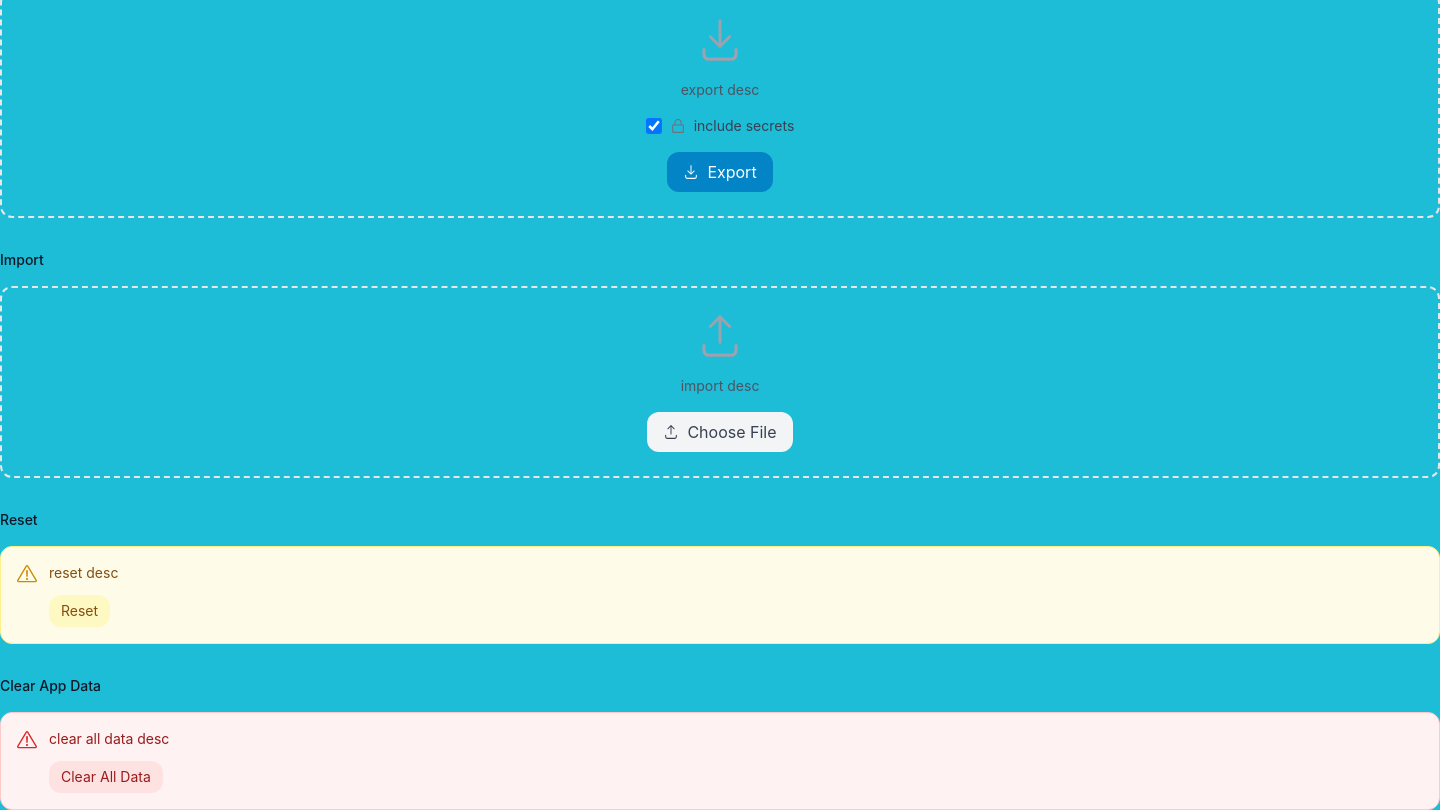
it: ImportExportSection clear-all-data › shows error and does not clear frontend state when clearAllData fails
(page scrolled)
Click the button "Clear All Data" at (106, 777), box [49, 761, 163, 793]
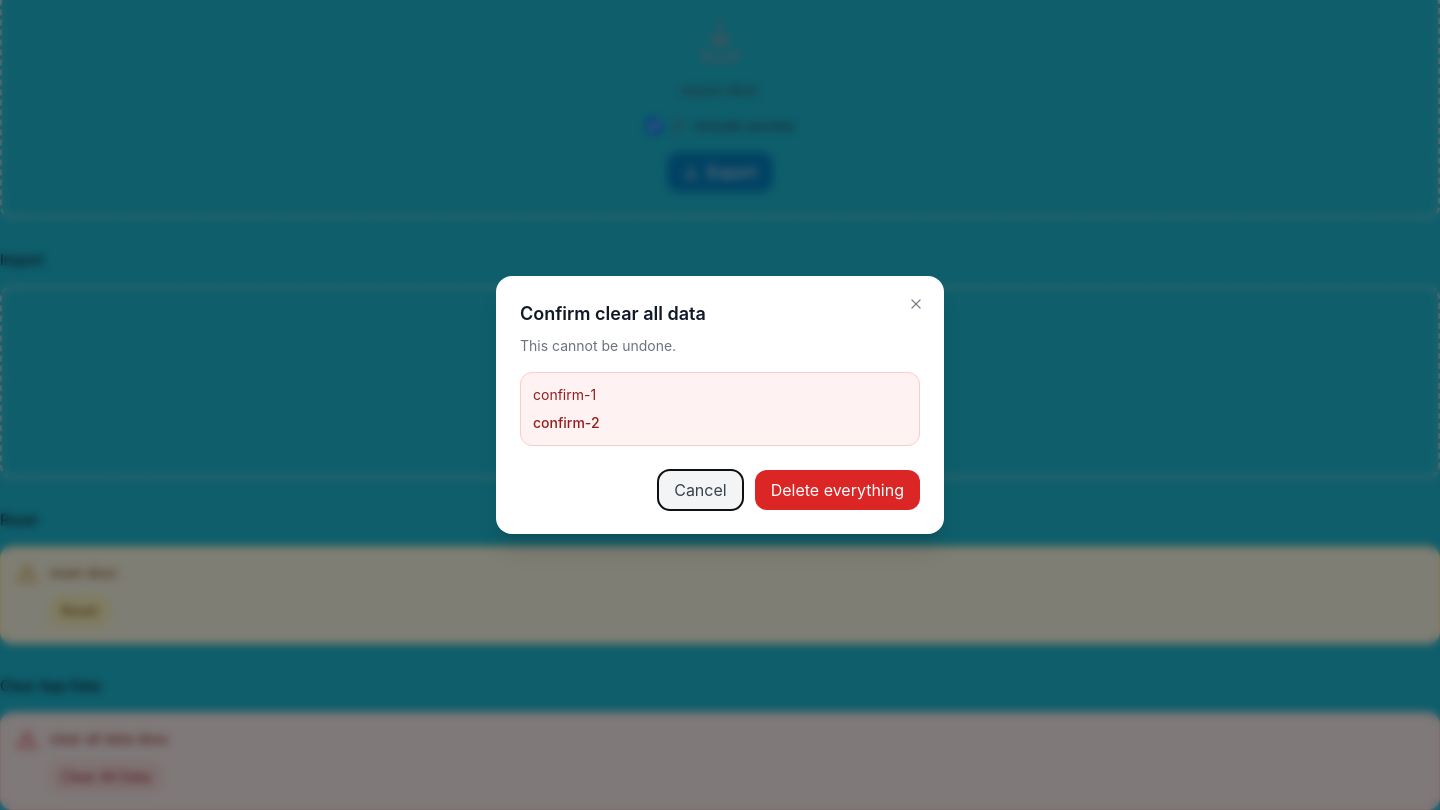
Click the button "Delete everything" at (837, 490), box [755, 470, 920, 510]
(page scrolled)
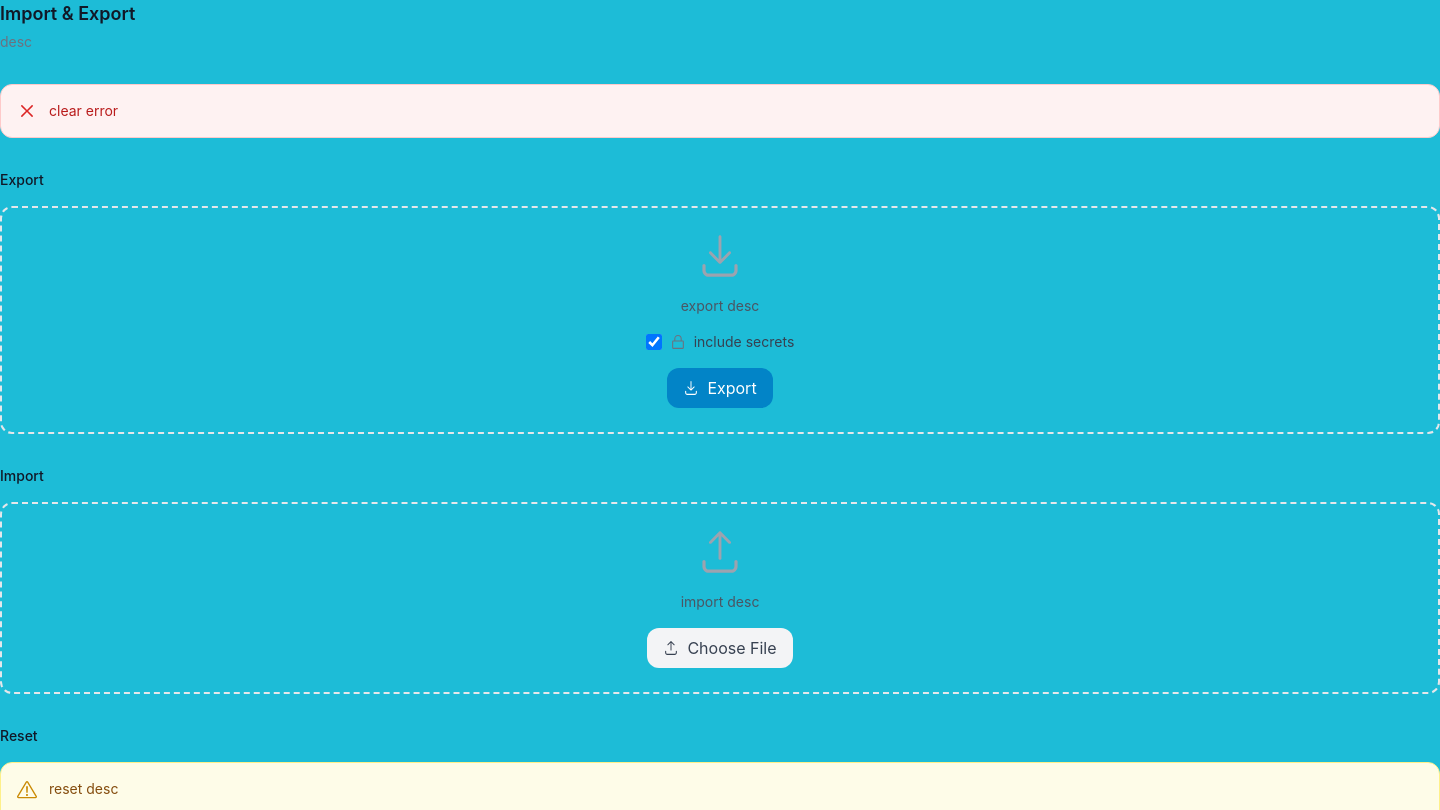
Result: the text "clear error" is shown at [49, 101, 118, 121]
